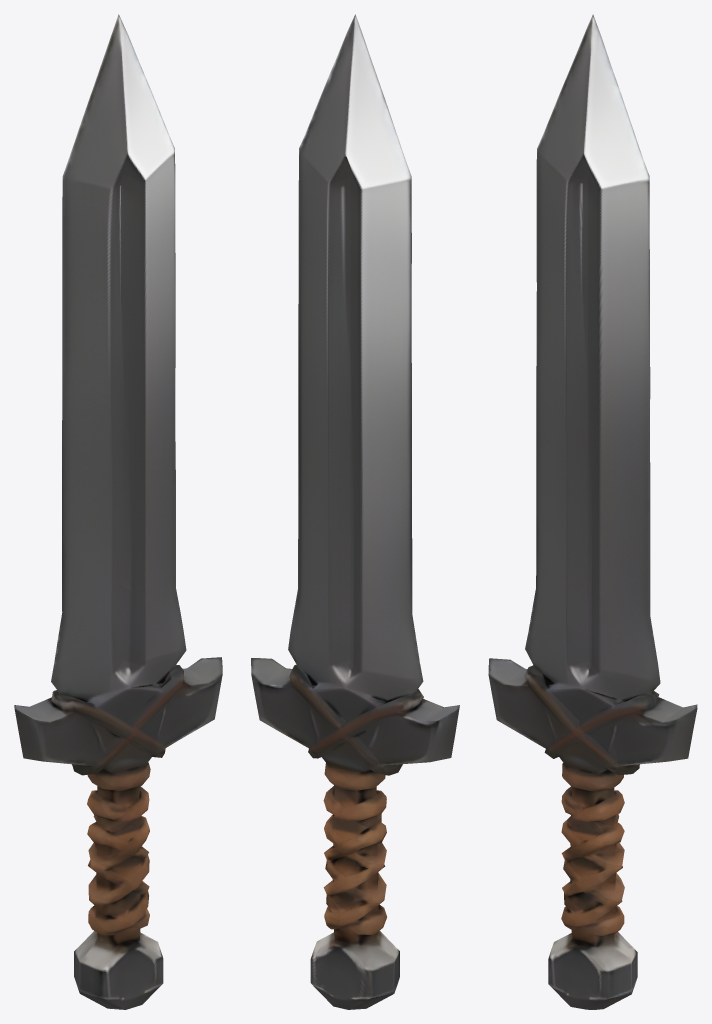
Rendered from base_basic_shaded.fbx.
3 views of the same model, side by side, from view 1: azimuth 30°, elevation 25°; view 2: azimuth 150°, elevation 25°; view 3: azimuth 330°, elevation 25° (orthographic).
Visible parts, largest first — view 1: model; view 2: model; view 3: model.
Boxes of the visible parts, x1,y1,x2,y2 form: model: (14,14,222,1009); model: (251,14,459,1009); model: (488,14,697,1009).
Bounding box in the file's own units: 38.83 × 177 × 10.87.
